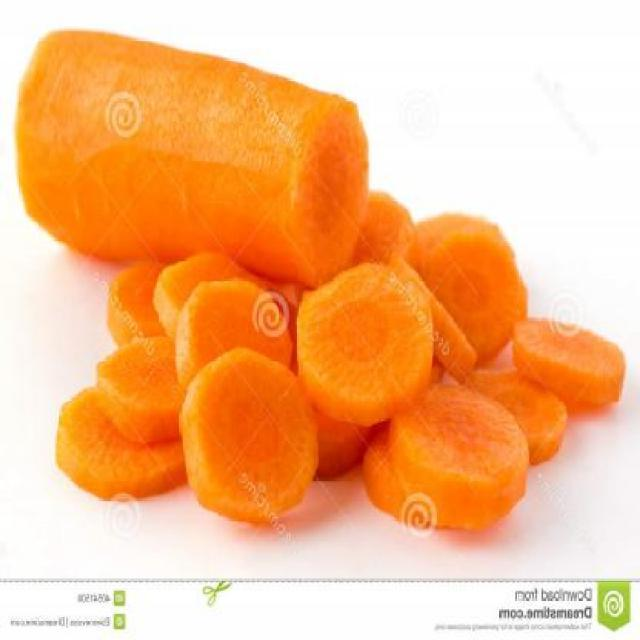carrot: (16, 23, 375, 296)
